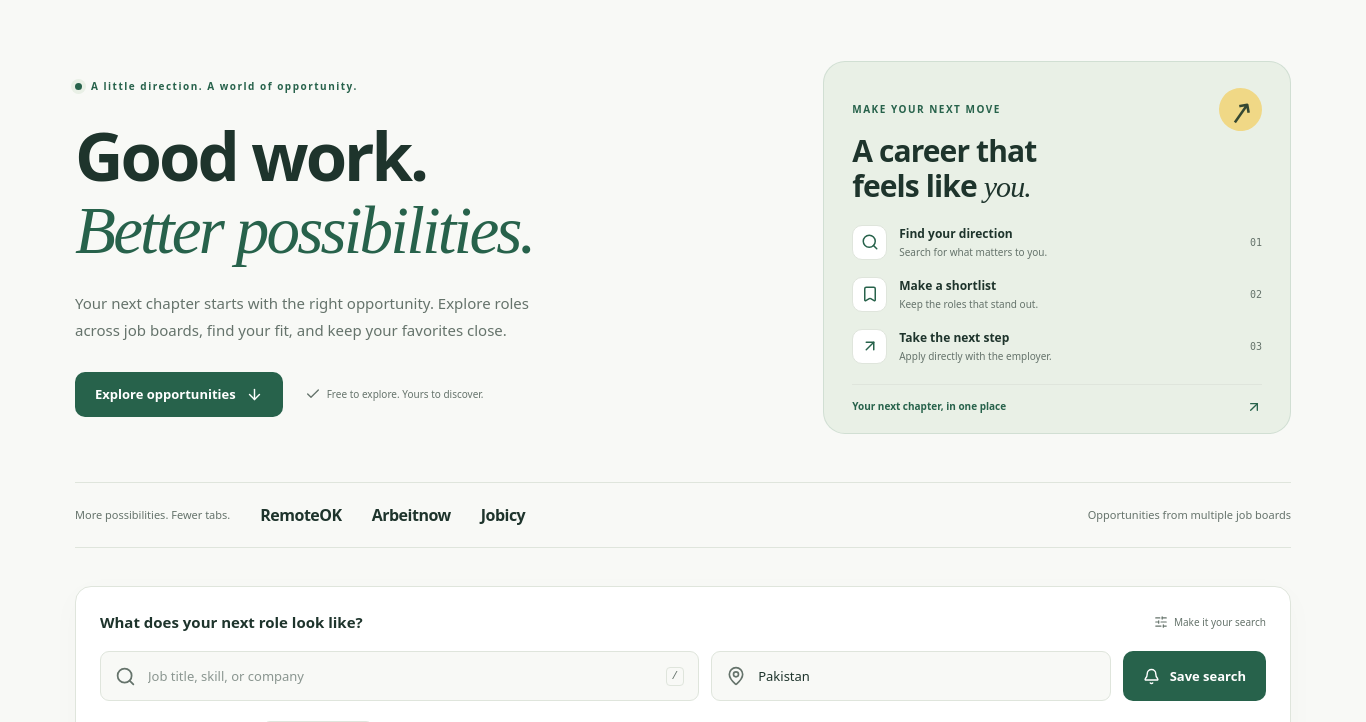
job feed › ignores a stale request after search changes
In the dropdown named "Search jobs": (401, 676) [148,652,654,700], type "React"
(page scrolled)
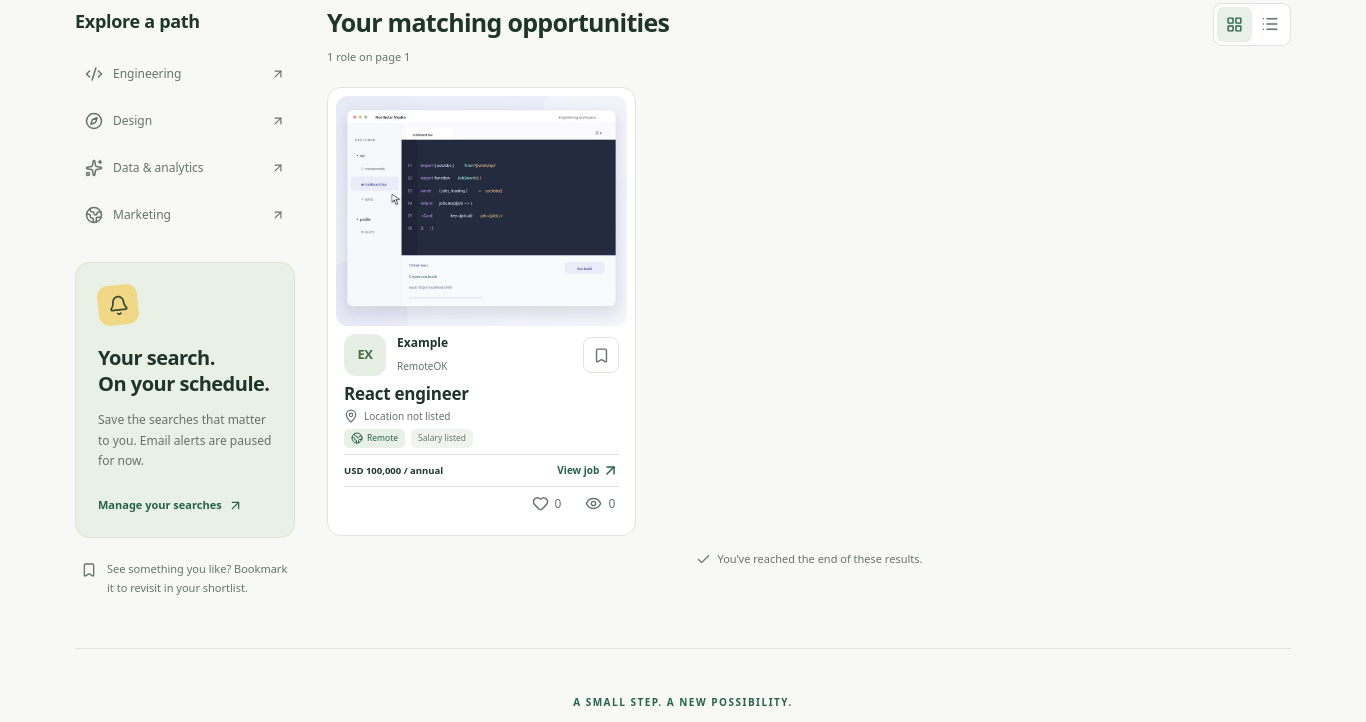
Check: the link "React engineer" is shown, box [344,382,469,405]
